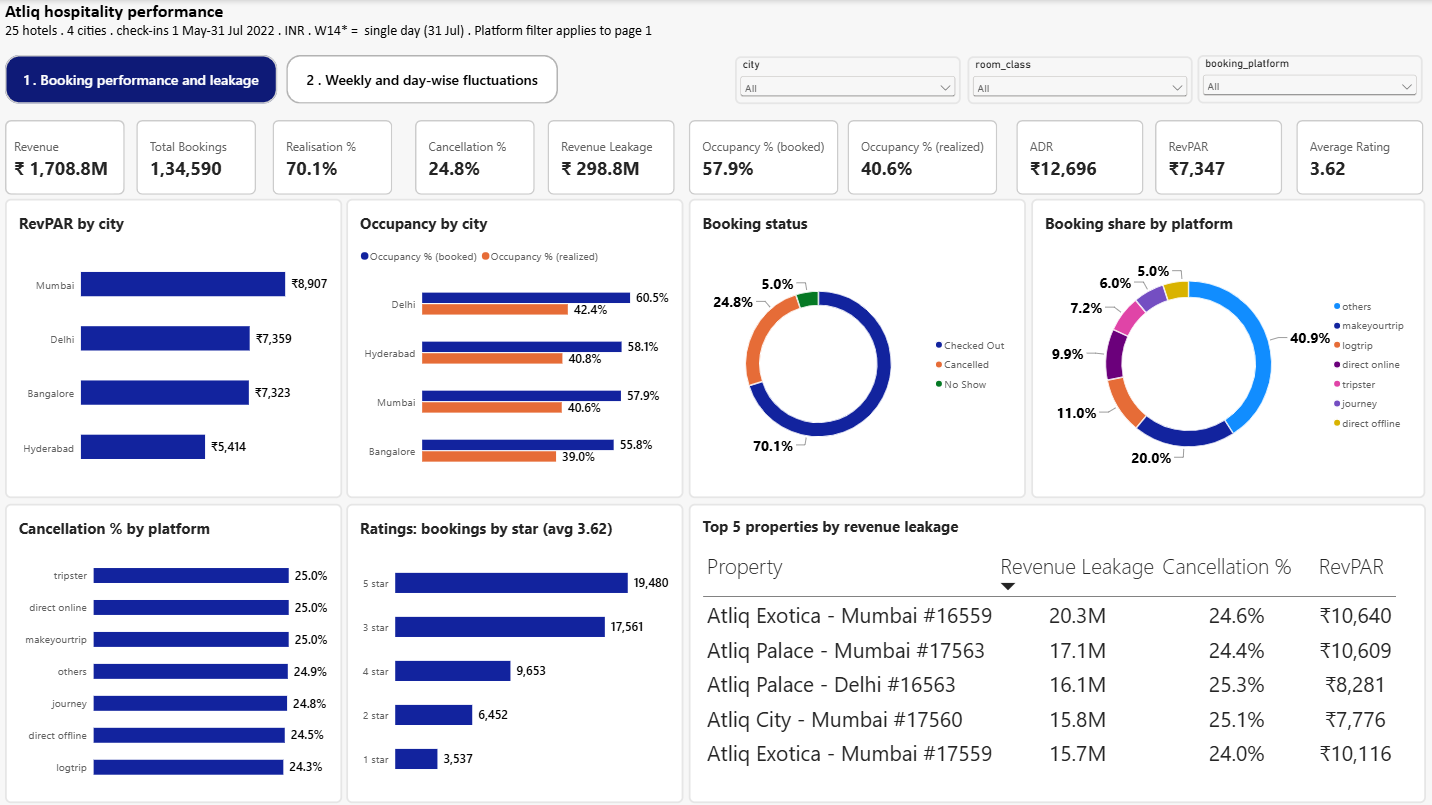

This screenshot's page, from the dashboard's own definition file:
{"tool":"powerbi","page":{"name":"Page 1","canvas":[1920,1080],"ordinal":0},"visuals":[{"type":"cardVisual","fields":{"Data":["fact_bookings.Total Revenue"]},"box":[7.2,161.1,160,100],"z":0},{"type":"cardVisual","fields":{"Data":["fact_bookings.Total Bookings"]},"box":[182.8,161.1,160,100],"z":1000},{"type":"cardVisual","fields":{"Data":["fact_bookings.Average Rating"]},"box":[1731.8,161.1,170,100],"z":2000},{"type":"cardVisual","fields":{"Data":["fact_bookings.Cancellation %"]},"box":[553.8,161.1,160,100],"z":3000},{"type":"cardVisual","fields":{"Data":["fact_bookings.Realization %"]},"box":[363.7,161.1,160,100],"z":4000},{"type":"cardVisual","fields":{"Data":["fact_bookings.ADR"]},"box":[1357.2,161.1,170,100],"z":5000},{"type":"cardVisual","fields":{"Data":["fact_bookings.Revenue Leakage"]},"box":[731.1,161.1,170,100],"z":6000},{"type":"cardVisual","fields":{"Data":["fact_bookings.Occupancy % (booked)"]},"box":[919.3,161.1,200,100],"z":7000},{"type":"cardVisual","fields":{"Data":["fact_bookings.Occupancy % (realized)"]},"box":[1132.8,161.1,200,100],"z":8000},{"type":"cardVisual","fields":{"Data":["fact_bookings.RevPAR"]},"box":[1543.6,161.1,170,100],"z":9000},{"type":"clusteredBarChart","title":"Occupancy by city","fields":{"Category":["dim_hotels.city"],"Y":["fact_bookings.Occupancy % (booked)","fact_bookings.Occupancy % (realized)"]},"box":[463.3,266,450.6,400],"z":10000},{"type":"clusteredBarChart","title":"RevPAR by city","fields":{"Category":["dim_hotels.city"],"Y":["fact_bookings.RevPAR"]},"box":[7.2,266,450.6,400],"z":11000},{"type":"donutChart","title":"Booking status","fields":{"Category":["fact_bookings.booking_status"],"Y":["fact_bookings.Total Bookings"]},"box":[919.3,266,450.6,400],"z":12000},{"type":"donutChart","title":"Booking share by platform","fields":{"Category":["fact_bookings.booking_platform"],"Y":["fact_bookings.Total Bookings"]},"box":[1377.2,266,526.6,400],"z":13000},{"type":"clusteredBarChart","title":"Cancellation % by platform","fields":{"Category":["fact_bookings.booking_platform"],"Y":["fact_bookings.Cancellation %"]},"box":[7.2,673.2,450.6,400],"z":14000},{"type":"clusteredBarChart","title":"Ratings: bookings by star (avg 3.62)","fields":{"Category":["fact_bookings.Star Rating"],"Y":["fact_bookings.Total Bookings"]},"box":[463.3,673.2,450.6,400],"z":15000},{"type":"tableEx","title":"Top 5 properties by revenue leakage","fields":{"Values":["dim_hotels.Property","fact_bookings.Revenue Leakage","fact_bookings.Cancellation %","fact_bookings.RevPAR"]},"box":[919.3,673.2,984.5,400],"z":16000},{"type":"textbox","box":[7.2,0,1896.5,74.2],"z":17000},{"type":"actionButton","box":[7.2,74.2,363.7,65.1],"z":18000},{"type":"actionButton","box":[381.8,74.2,363,65],"z":19000},{"type":"slicer","fields":{"Values":["dim_hotels.city"]},"box":[982.4,74.8,301.7,64.1],"z":20000},{"type":"slicer","fields":{"Values":["dim_rooms.room_class"]},"box":[1292.1,74.8,301,64],"z":21000},{"type":"slicer","fields":{"Values":["fact_bookings.booking_platform"]},"box":[1599.7,74.2,300.4,65.1],"z":22000}]}

Visuals, with their boxes in screenshot pixels (x1, y1, x2, y2), scaled from the page's 1920x1080 canvas onto the 1432x805 screenshot:
cardVisual - fact_bookings.Total Revenue: <box>5,120,125,195</box>
cardVisual - fact_bookings.Total Bookings: <box>136,120,256,195</box>
cardVisual - fact_bookings.Average Rating: <box>1292,120,1418,195</box>
cardVisual - fact_bookings.Cancellation %: <box>413,120,532,195</box>
cardVisual - fact_bookings.Realization %: <box>271,120,391,195</box>
cardVisual - fact_bookings.ADR: <box>1012,120,1139,195</box>
cardVisual - fact_bookings.Revenue Leakage: <box>545,120,672,195</box>
cardVisual - fact_bookings.Occupancy % (booked): <box>686,120,835,195</box>
cardVisual - fact_bookings.Occupancy % (realized): <box>845,120,994,195</box>
cardVisual - fact_bookings.RevPAR: <box>1151,120,1278,195</box>
"Occupancy by city" clusteredBarChart: <box>346,198,682,496</box>
"RevPAR by city" clusteredBarChart: <box>5,198,341,496</box>
"Booking status" donutChart: <box>686,198,1022,496</box>
"Booking share by platform" donutChart: <box>1027,198,1420,496</box>
"Cancellation % by platform" clusteredBarChart: <box>5,502,341,800</box>
"Ratings: bookings by star (avg 3.62)" clusteredBarChart: <box>346,502,682,800</box>
"Top 5 properties by revenue leakage" tableEx: <box>686,502,1420,800</box>
textbox: <box>5,0,1420,55</box>
actionButton: <box>5,55,277,104</box>
actionButton: <box>285,55,555,104</box>
slicer - dim_hotels.city: <box>733,56,958,104</box>
slicer - dim_rooms.room_class: <box>964,56,1188,103</box>
slicer - fact_bookings.booking_platform: <box>1193,55,1417,104</box>
